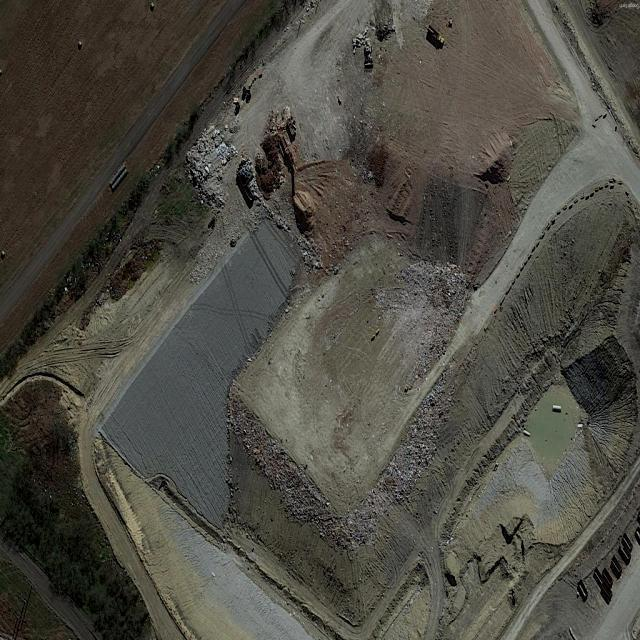dump_site: (215, 383, 356, 568), (343, 358, 473, 556), (356, 215, 479, 391), (181, 116, 243, 215)
